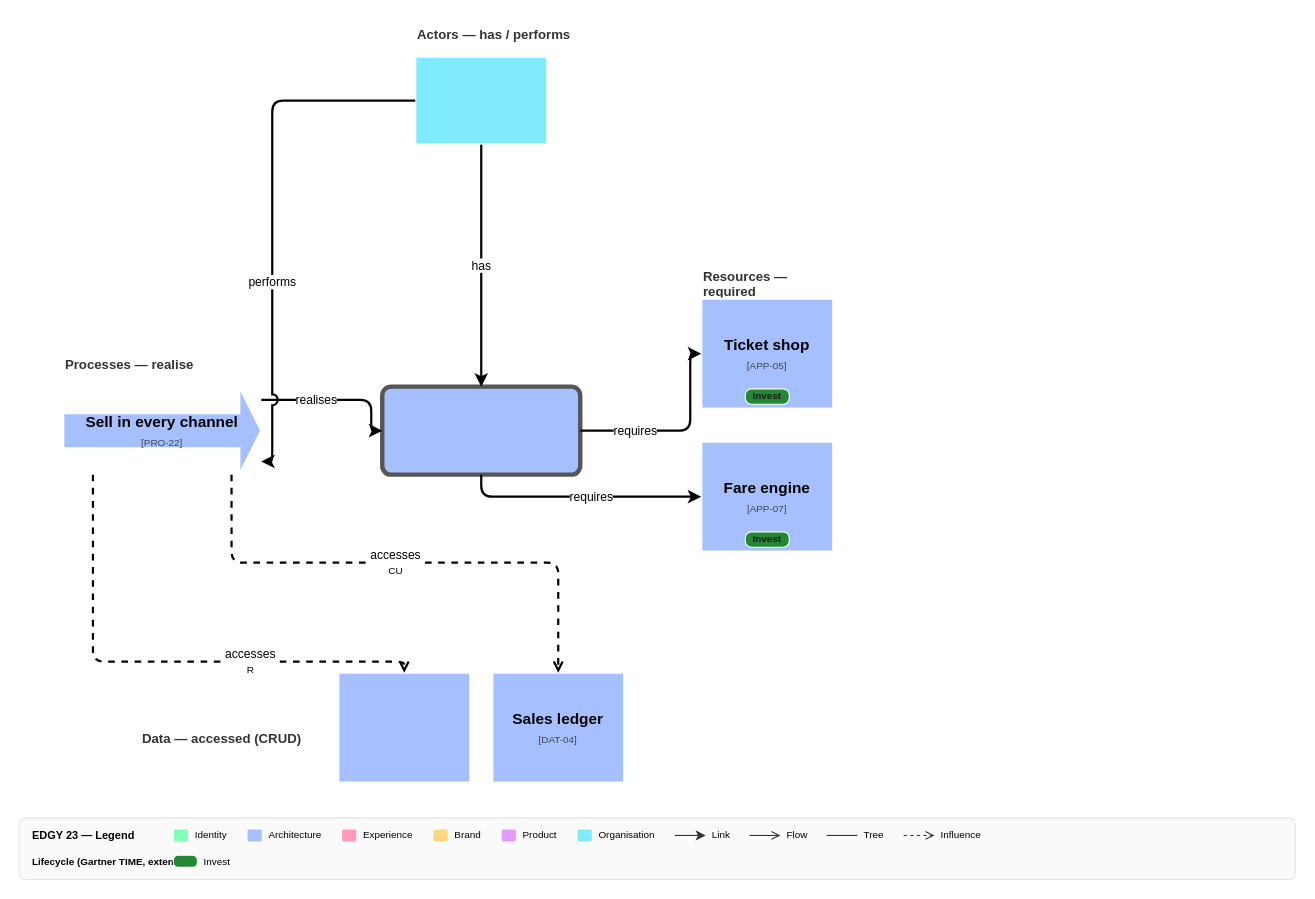
Image size: 1315x899. Some labels were removed from this diagram. Each missing label, with the centre of its shape:
"Fare rules [DAT-01]" goes at [404,727].
"Fares team [ORG-02]" goes at [481,100].
"Sales in every channel [CAP-05]" goes at [481,430].
